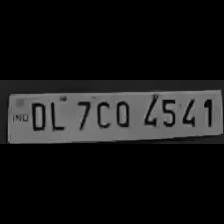1: (198, 95, 216, 127)
4: (138, 94, 158, 128), (178, 95, 198, 127)
5: (158, 96, 176, 128)
7: (70, 97, 92, 132)
C: (92, 97, 112, 130)
D: (26, 100, 48, 132)
L: (46, 98, 68, 132)
Q: (111, 97, 133, 129)
